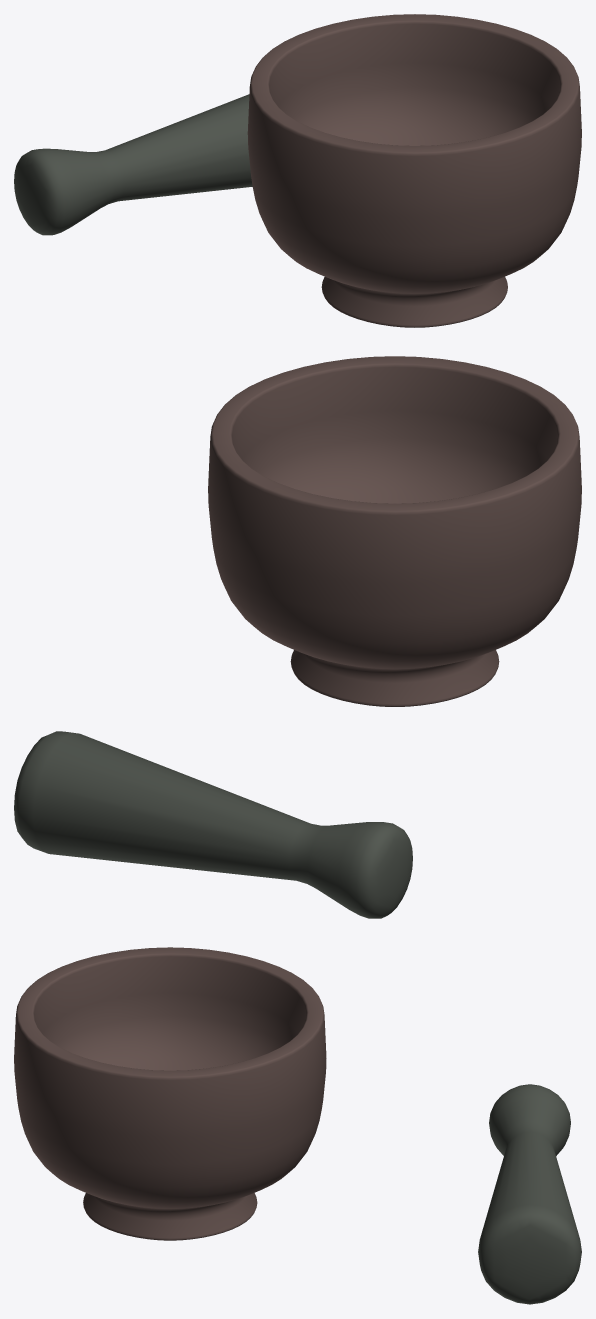
Rendered from mortar_pestle.FBX.
3 renders of one model, top to bottom at view 1: azimuth 30°, elevation 25°; view 2: azimuth 150°, elevation 25°; view 3: azimuth 270°, elevation 25°, orthographic. The views are drawn at different scales.
Parts seen in each view (by area): view 1: mortar, pestle; view 2: mortar, pestle; view 3: mortar, pestle.
Part boxes in pixels (bbox=[...]): mortar: bbox=[247, 14, 581, 327]; pestle: bbox=[14, 94, 252, 235]; mortar: bbox=[208, 356, 581, 706]; pestle: bbox=[14, 731, 412, 918]; mortar: bbox=[14, 947, 326, 1240]; pestle: bbox=[478, 1084, 581, 1304].
Bounding box in the file's own units: 41.71 × 30.1 × 64.47.
